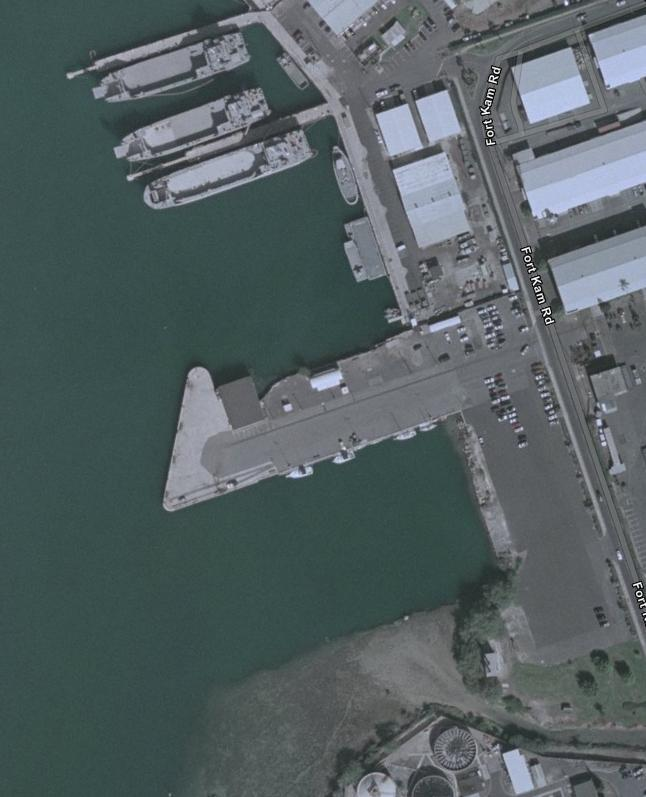barge: (89, 79, 277, 172), (132, 127, 314, 216), (83, 18, 258, 107)
